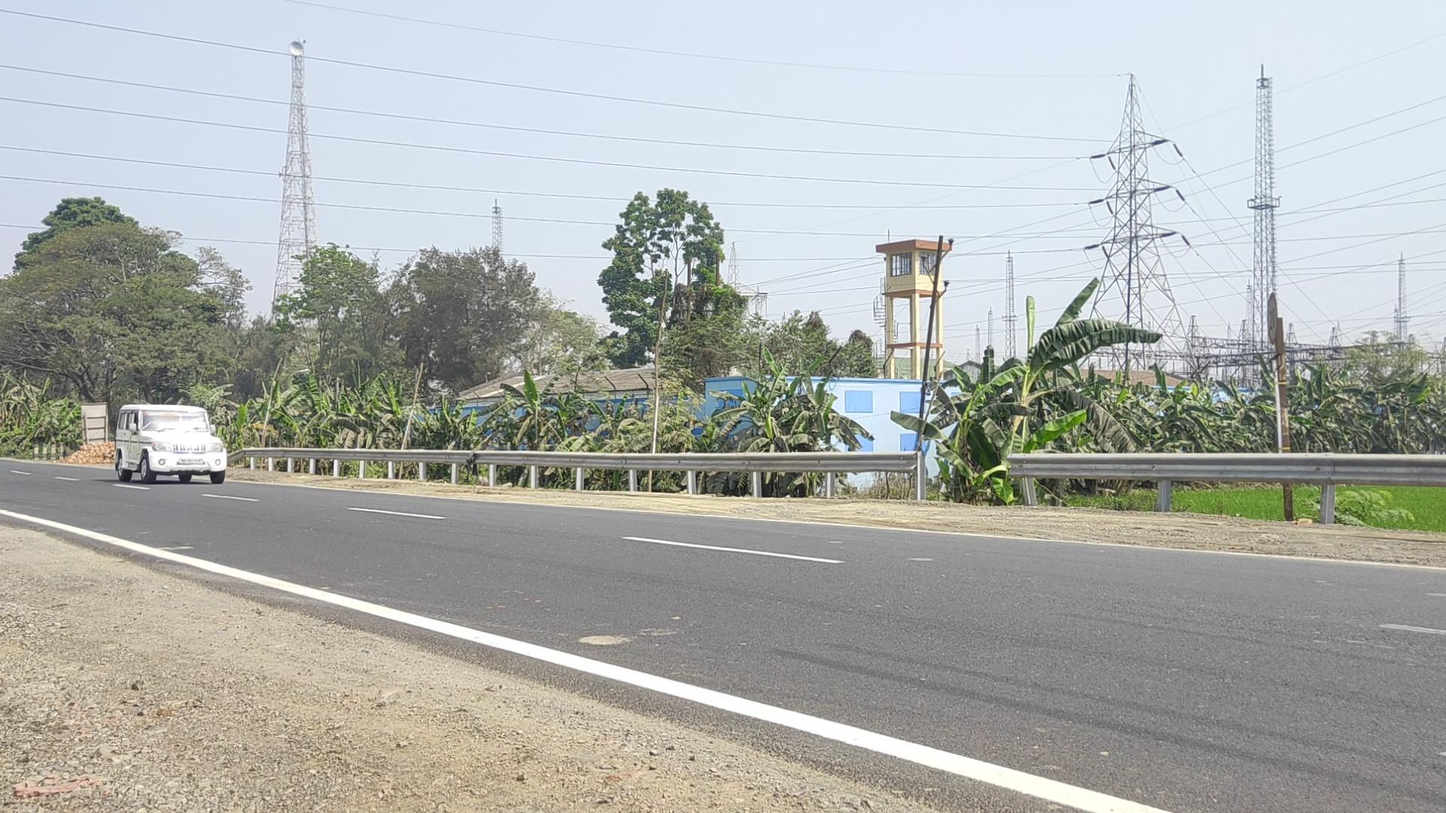car: (114, 404, 227, 484)
